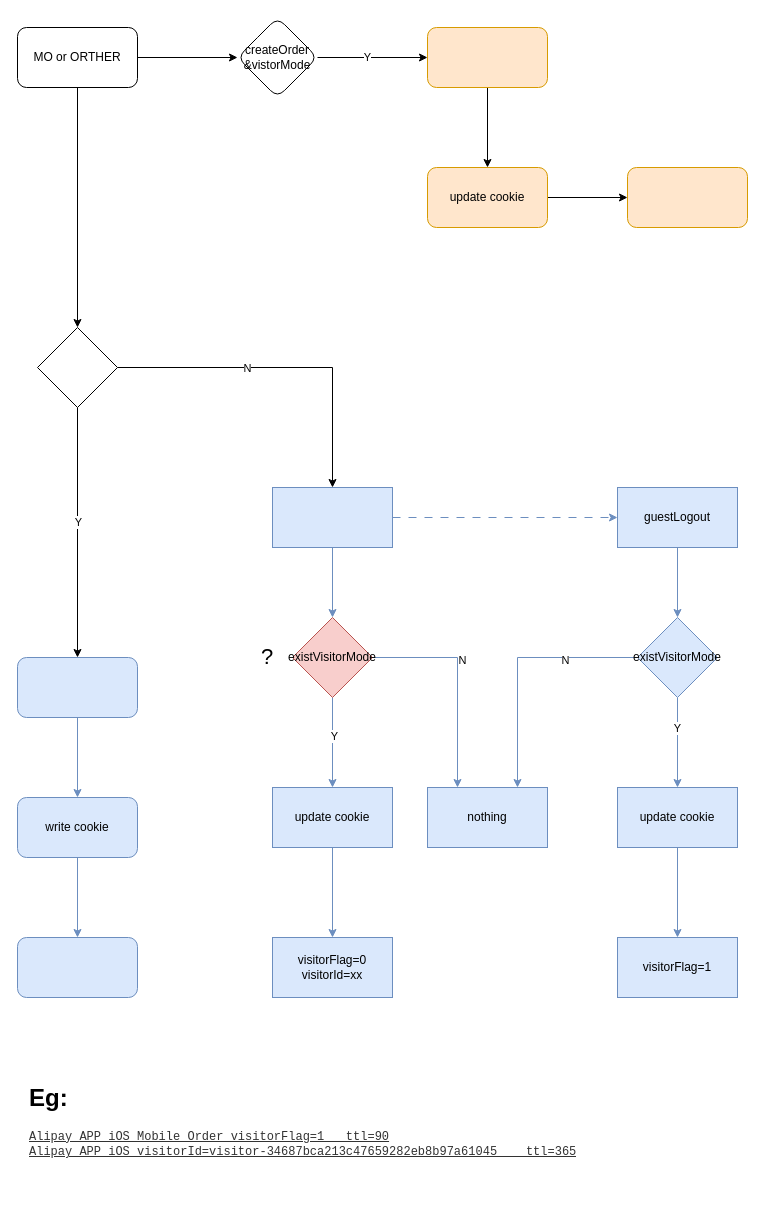
This 765x1218 diagram has some shape labels left out. The shapes that lost their labels are listed below. From the top down, each one's box as (x1, y1, x2, y2) in pixels, then its label:
(426, 26, 548, 88): profileSdk
(626, 166, 748, 228): vistorId ttl=365
(36, 326, 118, 408): chooseVistorMode
(272, 486, 392, 548): guestLogin
(16, 656, 138, 718): vistorLogin
(16, 936, 138, 998): visitorFlag=1 ttl=90 visitorId=xx ttl=365
